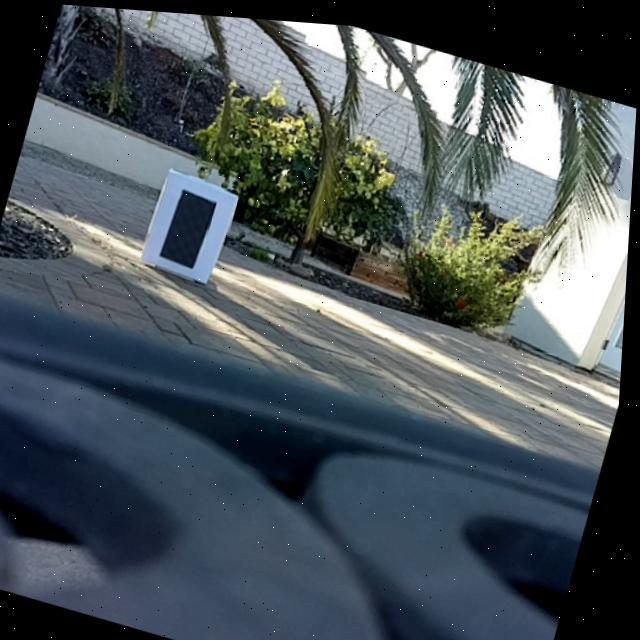led: (162, 183, 219, 270)
